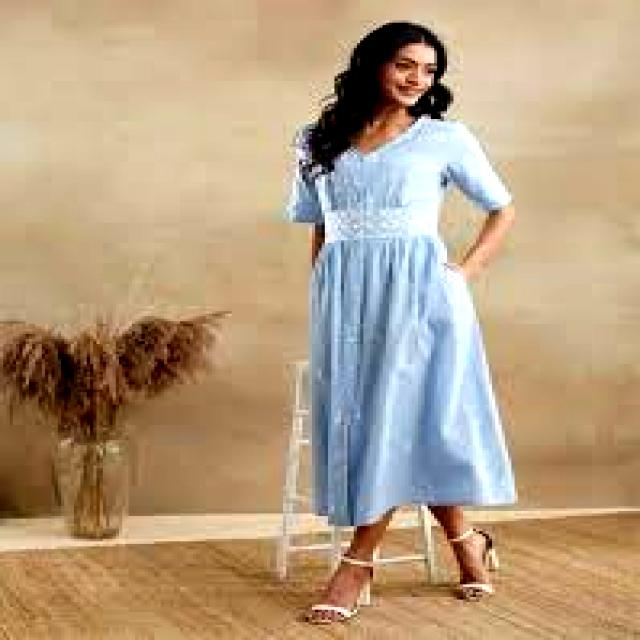dress: (287, 114, 517, 526)
